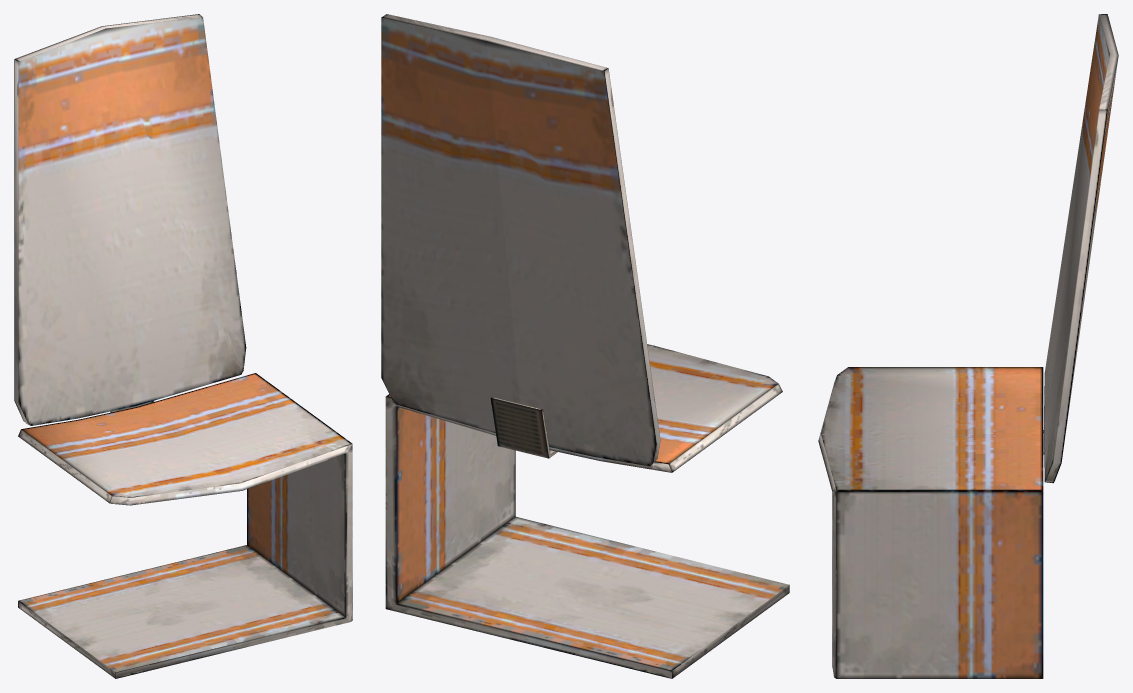
File: frn_all_chair_kitchen_s1_l1.fbx
3 views of the same model, side by side, from view 1: azimuth 30°, elevation 25°; view 2: azimuth 150°, elevation 25°; view 3: azimuth 270°, elevation 25° (orthographic). The views are drawn at different scales.
Visible parts, largest first — view 1: mesh_node; view 2: mesh_node; view 3: mesh_node.
Boxes of the visible parts, bbox=[...] form: mesh_node: bbox=[14, 14, 352, 678]; mesh_node: bbox=[381, 14, 789, 678]; mesh_node: bbox=[818, 14, 1118, 678].
Size of the model in its own units: 0.56 by 1.19 by 0.5738.
